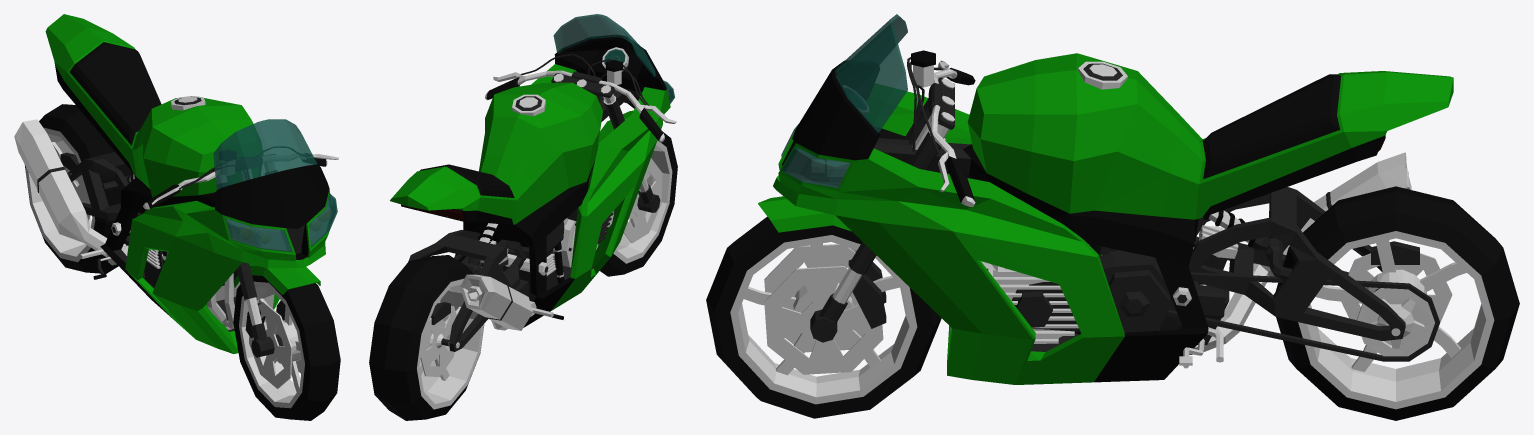
Rendered from Motorcycle_04.FBX.
The picture shows the model from 3 angles, left to right: view 1: azimuth 30°, elevation 25°; view 2: azimuth 150°, elevation 25°; view 3: azimuth 270°, elevation 25°; orthographic projection. The views are drawn at different scales.
Visible parts, largest first — view 1: Motorcycle_04, wheel_f, wheel_b, windshield, exhaust, suspension_b, brakes_f, motor, handlebars, steering, mudguard, brakes_b (+1 smaller); view 2: Motorcycle_04, wheel_b, suspension_b, wheel_f, exhaust, handlebars, motor, windshield, brakes_b, steering, brakes_f, speedometer (+1 smaller); view 3: Motorcycle_04, wheel_b, wheel_f, suspension_b, motor, brakes_f, windshield, steering, handlebars, exhaust, chain, brakes_b (+1 smaller).
Part boxes in pixels (<box>): Motorcycle_04: <box>45,14,337,353</box>; wheel_f: <box>233,275,340,420</box>; wheel_b: <box>25,104,141,273</box>; windshield: <box>213,119,317,189</box>; exhaust: <box>14,119,107,257</box>; suspension_b: <box>67,152,140,220</box>; brakes_f: <box>245,300,302,388</box>; motor: <box>79,213,240,329</box>; handlebars: <box>143,147,338,209</box>; steering: <box>211,154,283,357</box>; mudguard: <box>233,264,320,294</box>; brakes_b: <box>58,152,90,220</box>; Motorcycle_04: <box>390,35,674,327</box>; wheel_b: <box>369,255,484,420</box>; suspension_b: <box>408,222,526,351</box>; wheel_f: <box>600,131,677,276</box>; exhaust: <box>460,274,532,330</box>; handlebars: <box>485,54,676,142</box>; motor: <box>477,213,613,319</box>; windshield: <box>553,14,655,76</box>; brakes_b: <box>420,302,456,376</box>; steering: <box>551,73,660,212</box>; brakes_f: <box>610,158,662,243</box>; speedometer: <box>602,47,628,71</box>; Motorcycle_04: <box>773,53,1453,384</box>; wheel_b: <box>1275,186,1519,420</box>; wheel_f: <box>706,216,941,418</box>; suspension_b: <box>1189,187,1405,341</box>; motor: <box>950,225,1238,368</box>; brakes_f: <box>764,244,886,374</box>; windshield: <box>835,14,907,132</box>; steering: <box>810,77,954,342</box>; handlebars: <box>907,50,975,206</box>; exhaust: <box>1189,152,1411,354</box>; chain: <box>1161,272,1439,361</box>; brakes_b: <box>1341,241,1452,345</box>.
Size of the model in its own units: 9.52 by 13.56 by 25.38.
